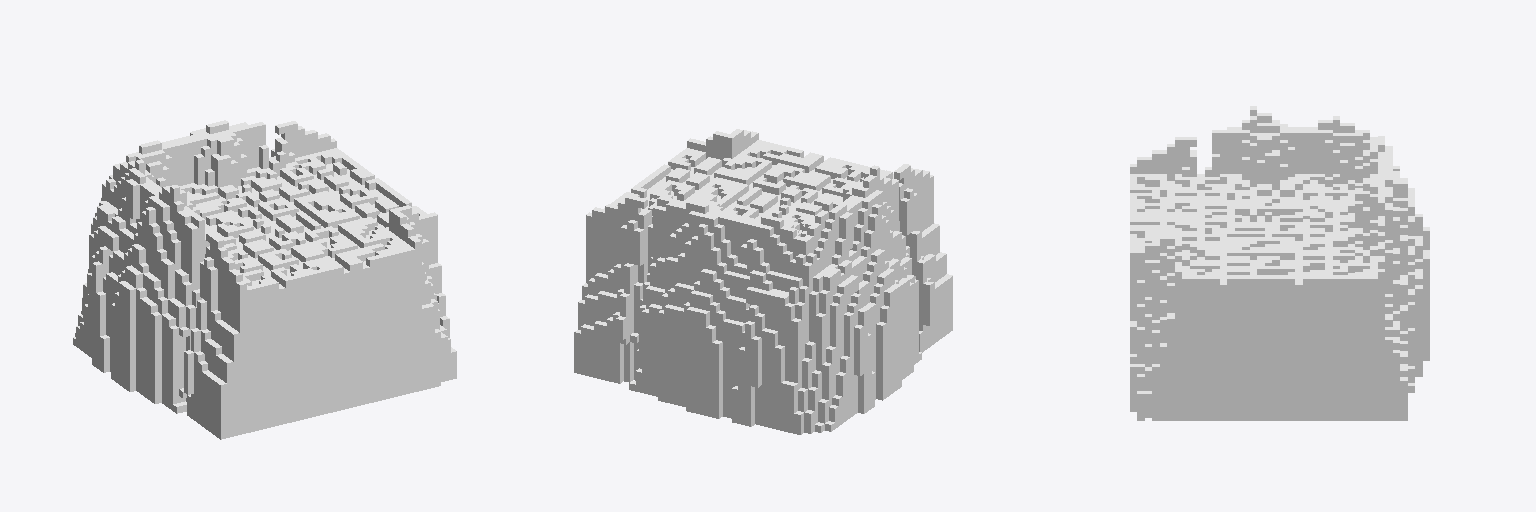
Rendered from Corner_Magma.obj.
The picture shows the model from 3 angles: view 1: azimuth 30°, elevation 25°; view 2: azimuth 150°, elevation 25°; view 3: azimuth 270°, elevation 25°; orthographic projection.
Size of the model in its own units: 40 by 30 by 40.